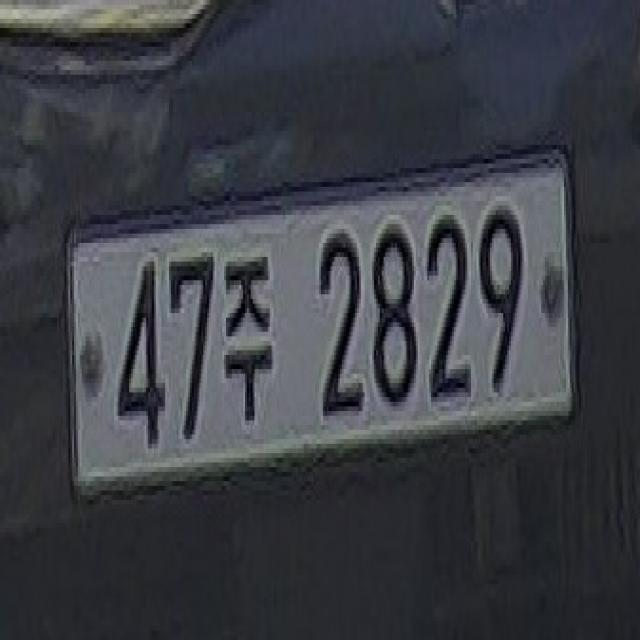2: (312, 223, 370, 436), (424, 206, 476, 430)
4: (111, 248, 168, 468)
7: (168, 242, 218, 460)
8: (368, 223, 419, 419)
9: (476, 190, 524, 420)
ju: (222, 243, 278, 450)
license_plate: (53, 129, 591, 525)
